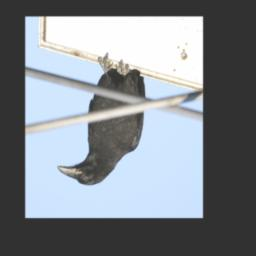Crow: (56, 53, 147, 187)
